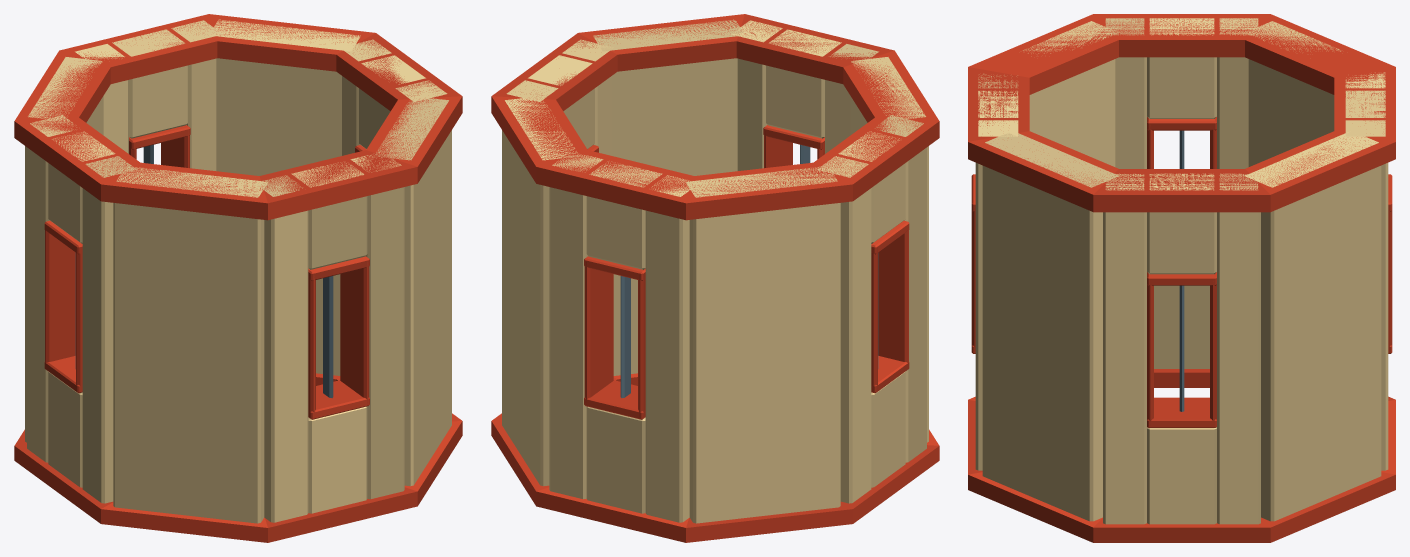
The model's file is EM_BeaconBody.fbx.
3 renders of one model, left to right at view 1: azimuth 30°, elevation 25°; view 2: azimuth 150°, elevation 25°; view 3: azimuth 270°, elevation 25°, orthographic. The views are drawn at different scales.
Visible parts, largest first — view 1: EM_BeaconBody; view 2: EM_BeaconBody; view 3: EM_BeaconBody.
Part boxes in pixels (x1=…): EM_BeaconBody: x1=14, y1=14, x2=462, y2=542; EM_BeaconBody: x1=491, y1=14, x2=939, y2=542; EM_BeaconBody: x1=968, y1=14, x2=1395, y2=542.
Bounding box in the file's own units: 1.89 × 1.7 × 1.89.
